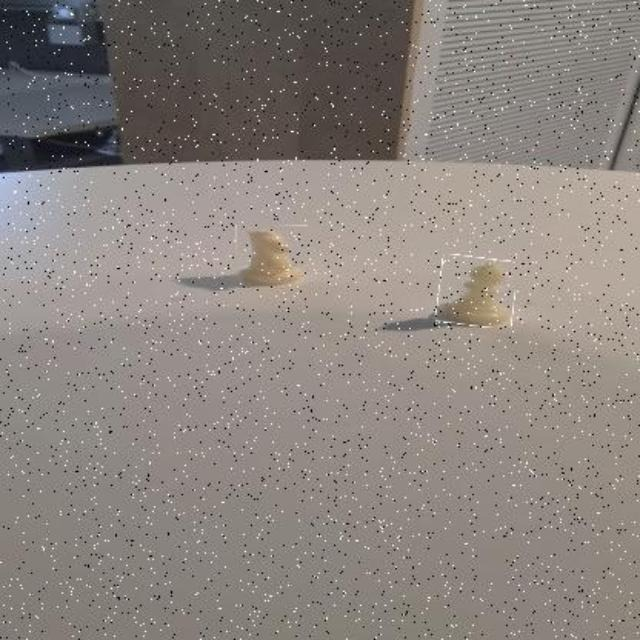white-bishop: (437, 256, 515, 328)
white-knight: (236, 224, 308, 285)
